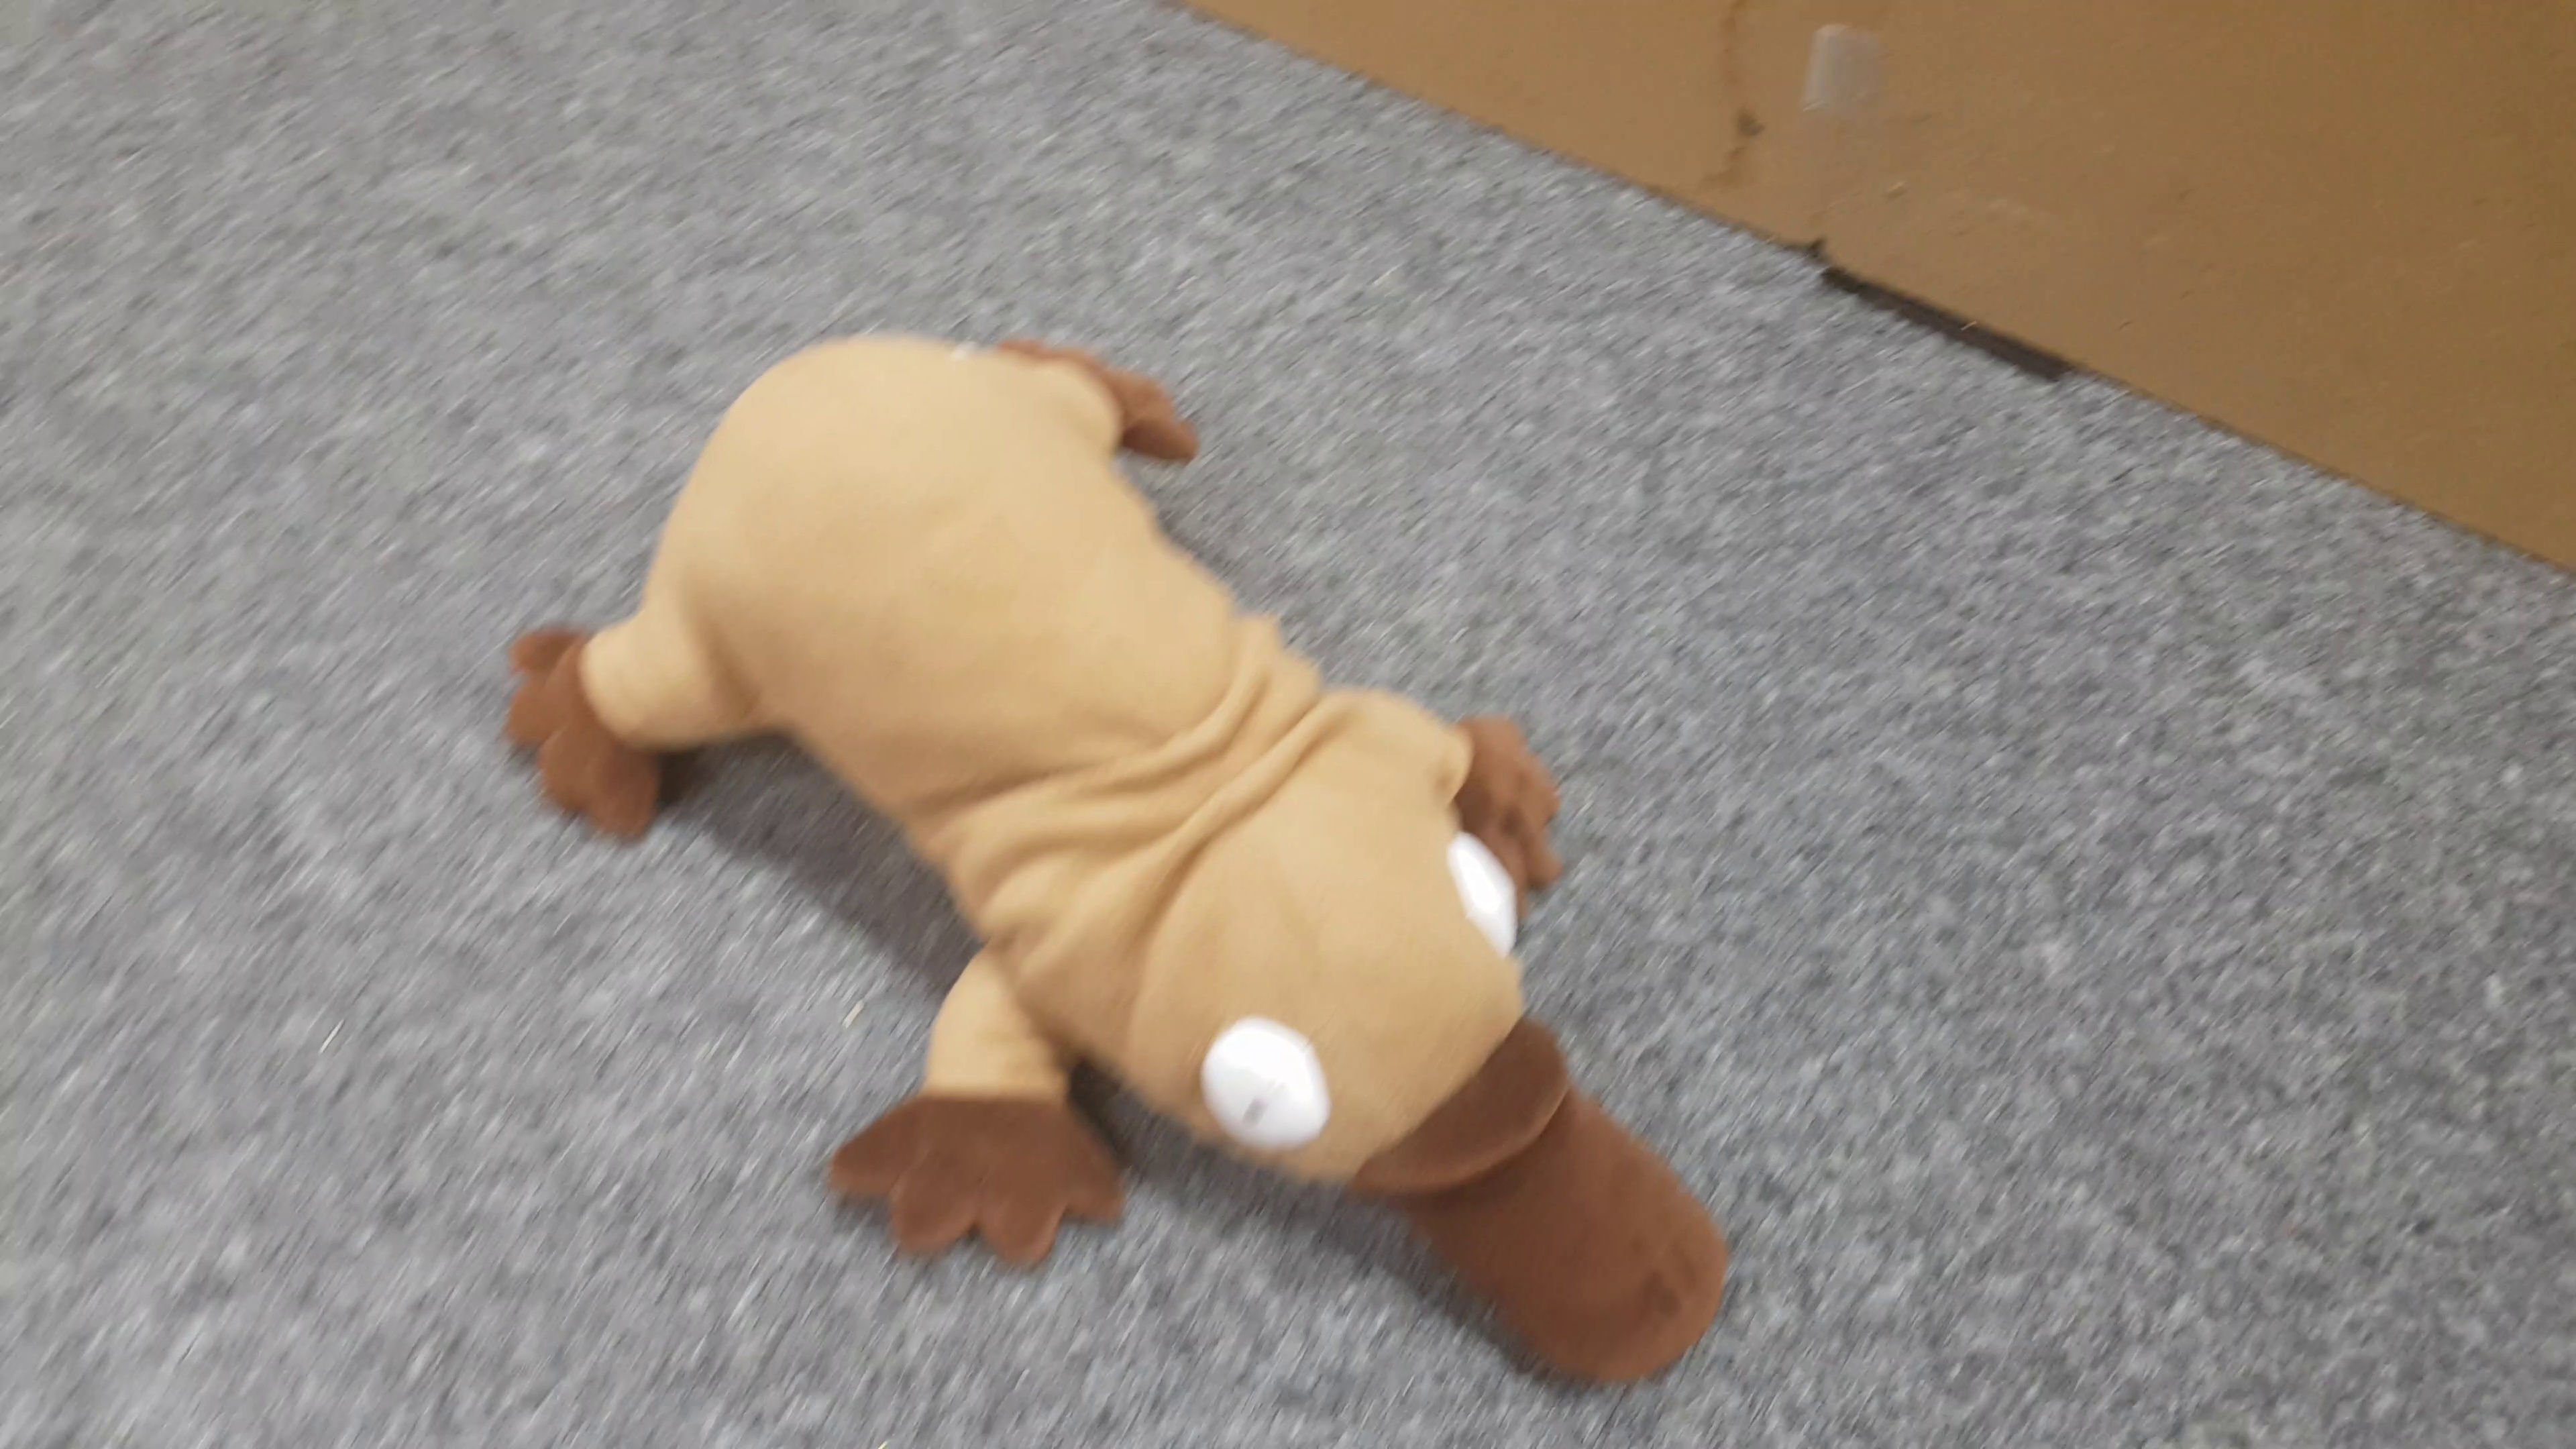grasp: (508, 324, 1739, 1401)
